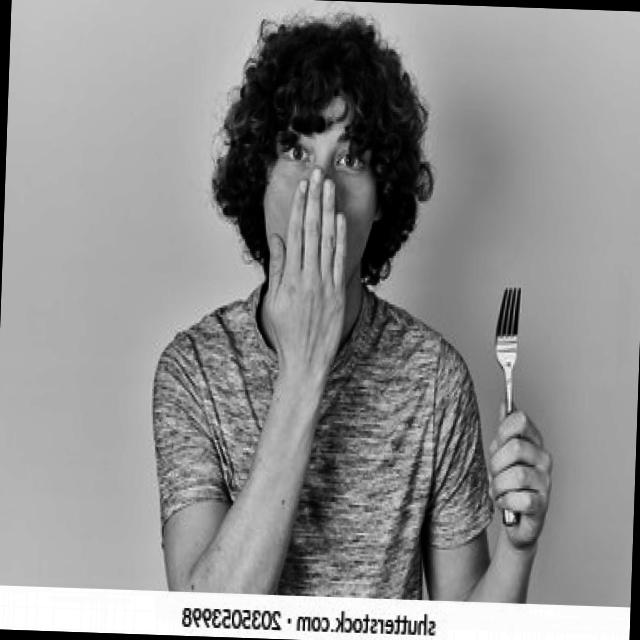fork: (488, 283, 525, 530)
